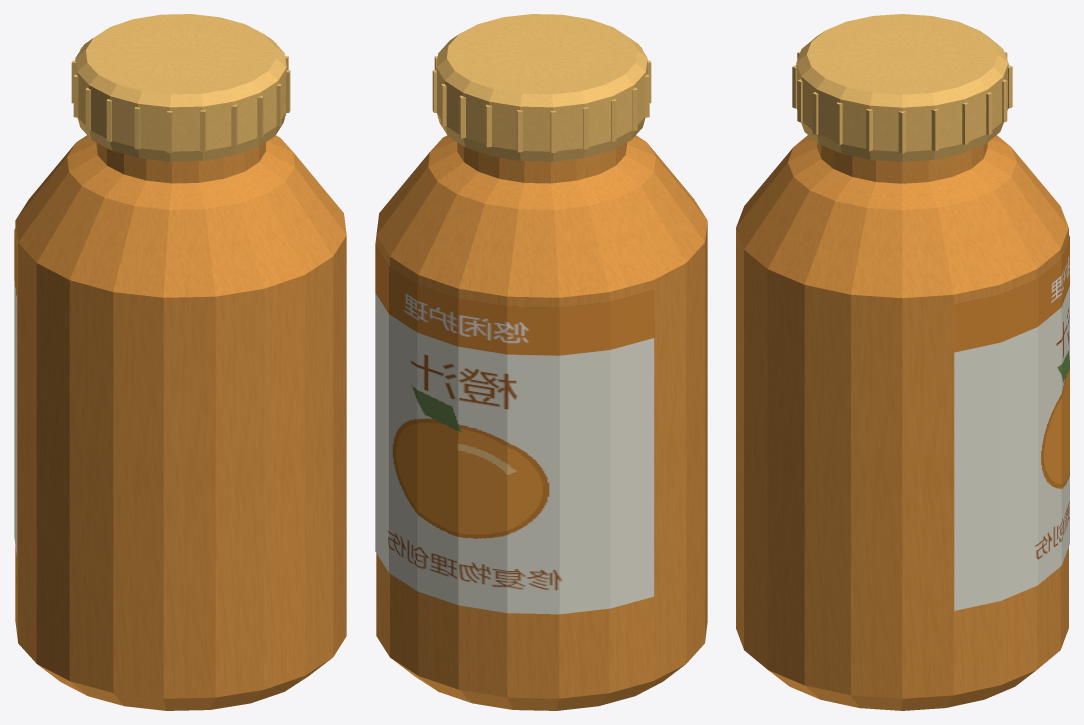
File: orange_juice.obj
3 renders of one model, left to right at view 1: azimuth 30°, elevation 25°; view 2: azimuth 150°, elevation 25°; view 3: azimuth 270°, elevation 25°, orthographic.
Parts seen in each view (by area): view 1: orange_juice; view 2: orange_juice; view 3: orange_juice.
Boxes of the visible parts, x1=… form: orange_juice: x1=14, y1=14, x2=346, y2=710; orange_juice: x1=375, y1=14, x2=707, y2=710; orange_juice: x1=736, y1=14, x2=1069, y2=710.
Size of the model in its own units: 3.2 by 6.34 by 3.21.
1 material, 1 textured.
